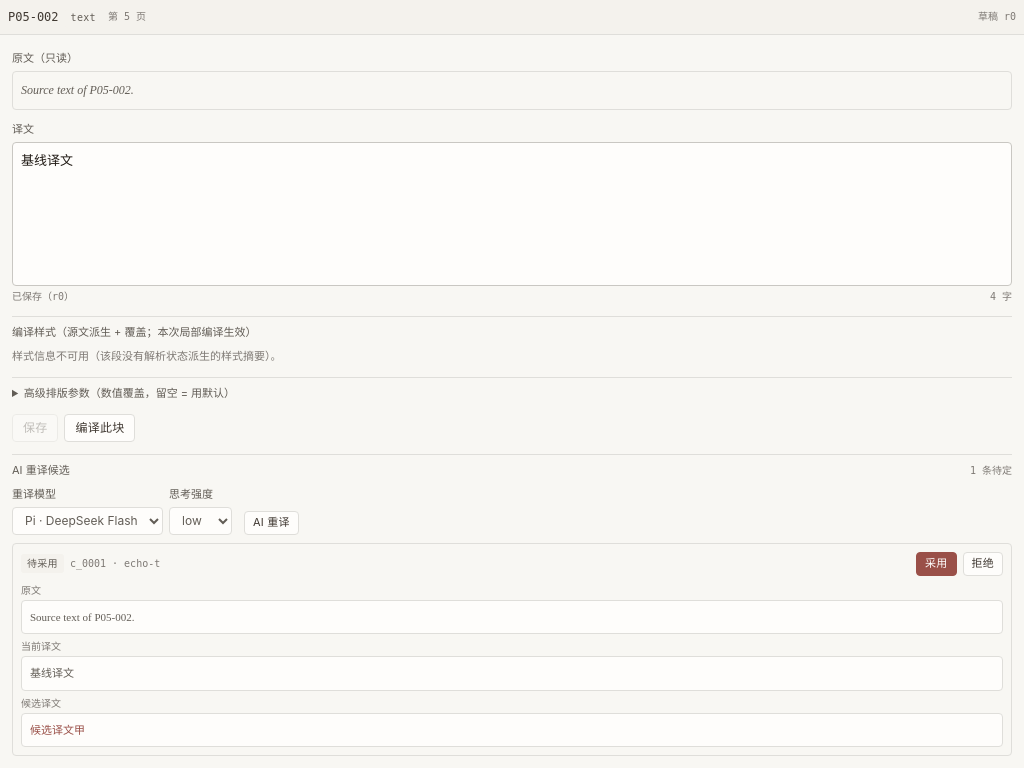
Test case: CandidatePanel 采用 / 拒绝 › 采用：译文框立刻变候选文本 + 草稿已修改（草稿缓存由响应驱动）
This screenshot has width=1024, height=768.
Expected: the text box labelled "译文" holds "基线译文", [12,142,1012,286]
Expected: the text "草稿已修改" is not shown
Click the button "采用".
click(936, 564)  # box [916,552,957,576]
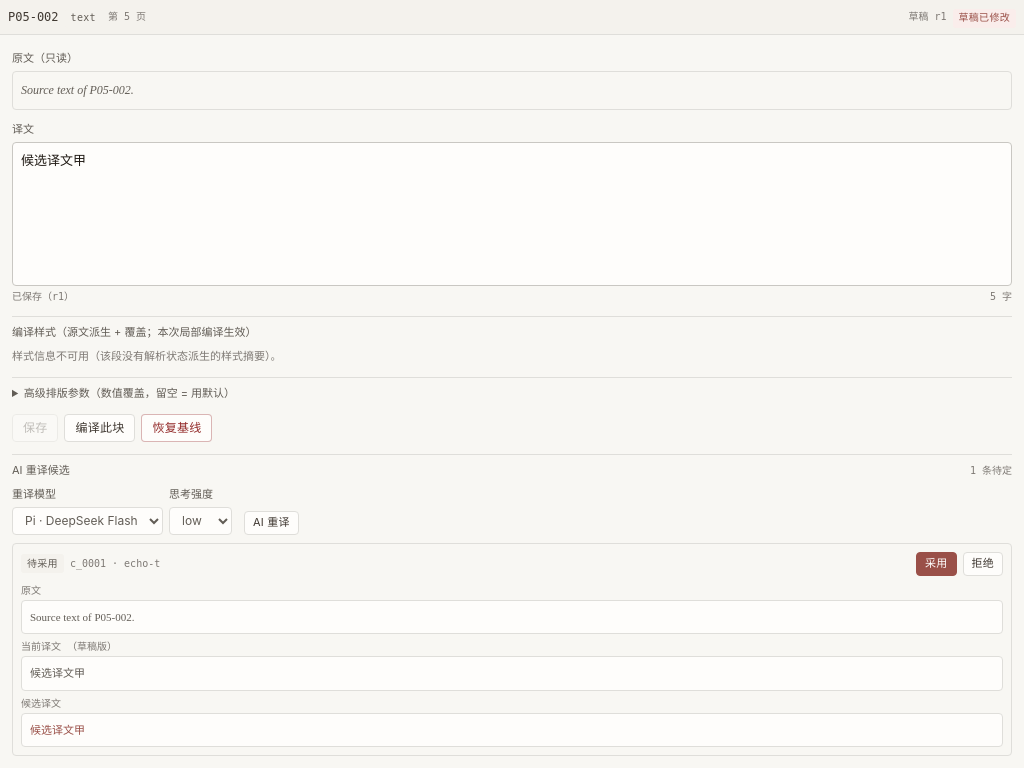
Now the text box labelled "译文" holds "候选译文甲", box [12,142,1012,286]
Now the text "草稿已修改" is shown, box [952,8,1016,28]
Now the text "草稿 r1" is shown, box [908,10,946,24]
